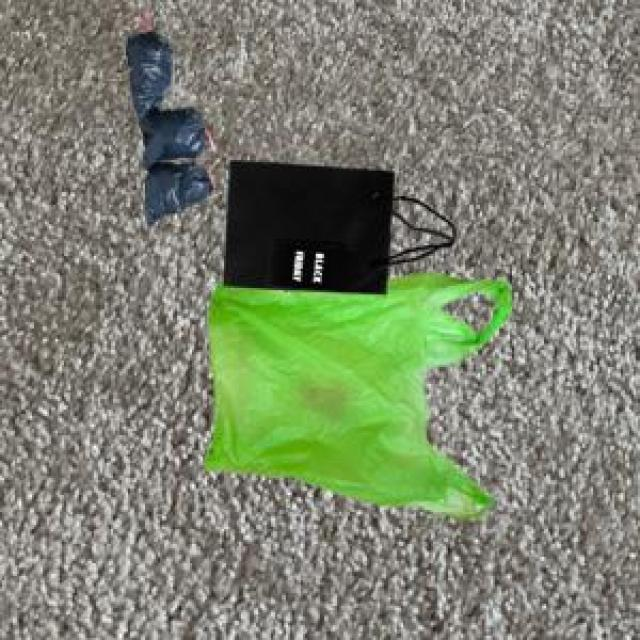miscellaneous trash: (124, 28, 209, 224)
paper: (220, 157, 450, 290)
